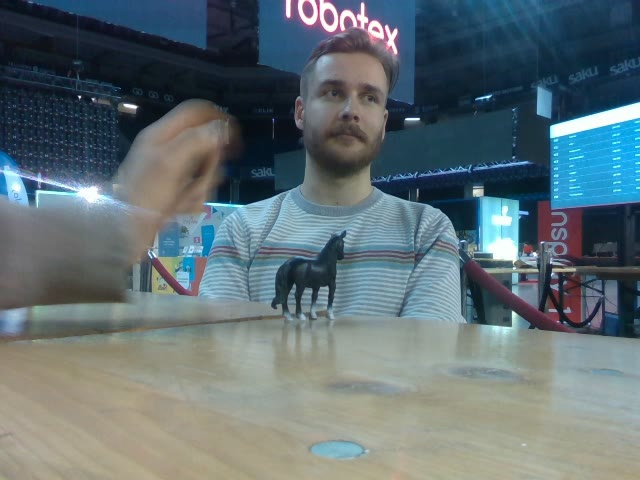toy: (271, 228, 348, 323)
